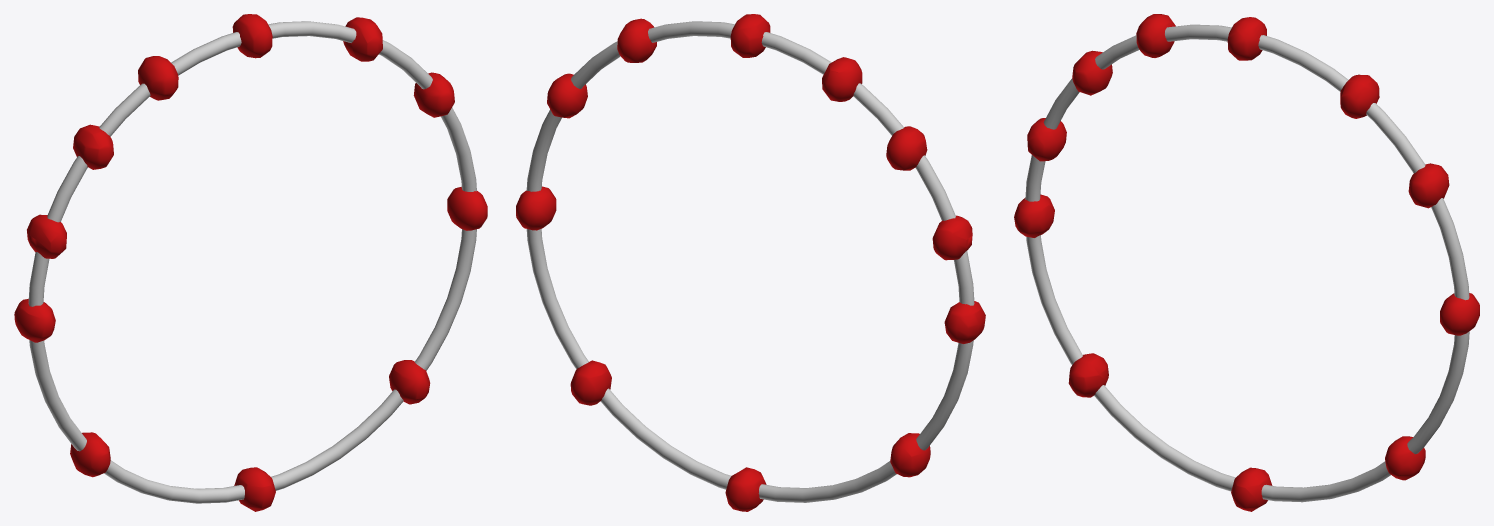
The picture shows the model from 3 angles, left to right: view 1: azimuth 30°, elevation 25°; view 2: azimuth 150°, elevation 25°; view 3: azimuth 330°, elevation 25°; orthographic projection.
Parts seen in each view (by area): view 1: Ring_Torus, Electron_Mball; view 2: Ring_Torus, Electron_Mball; view 3: Ring_Torus, Electron_Mball.
Part boxes in pixels (left/top/right/bottom): Ring_Torus: left=28, top=21, right=476, bottom=503; Electron_Mball: left=14, top=14, right=487, bottom=511; Ring_Torus: left=526, top=21, right=974, bottom=502; Electron_Mball: left=516, top=14, right=985, bottom=511; Ring_Torus: left=1025, top=24, right=1469, bottom=502; Electron_Mball: left=1014, top=14, right=1479, bottom=511.
Bounding box in the file's own units: 2.55 × 2.6 × 0.2572.
